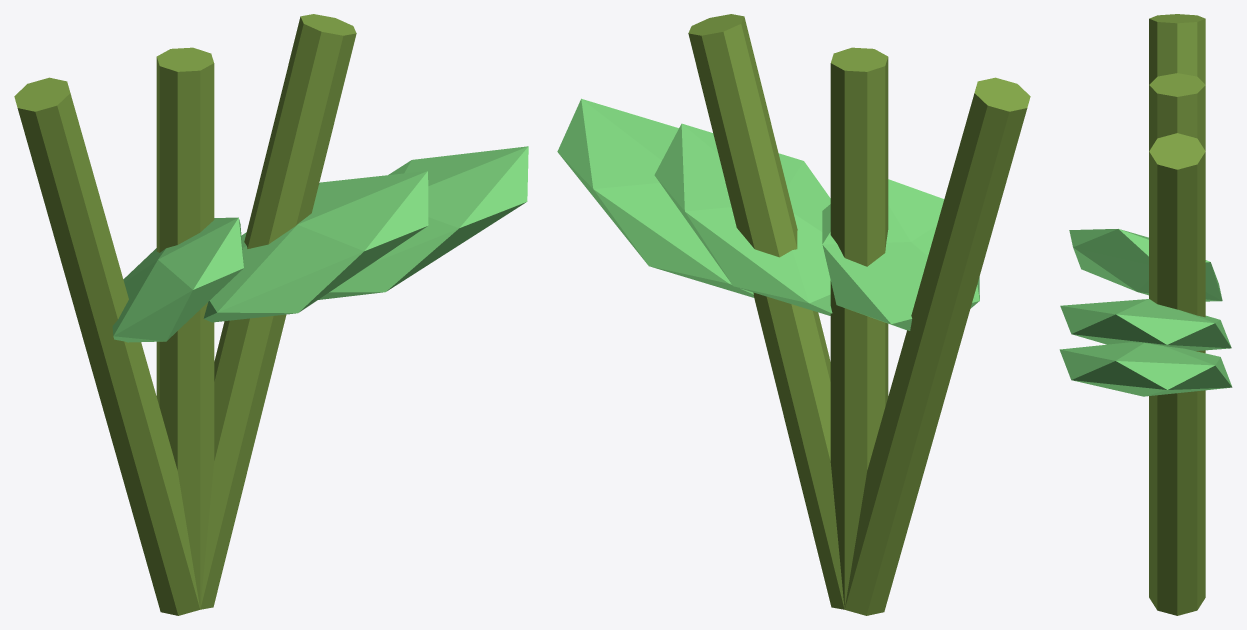
Rendered from harvest_drop_mint.glb.
3 renders of one model, left to right at view 1: azimuth 30°, elevation 25°; view 2: azimuth 150°, elevation 25°; view 3: azimuth 270°, elevation 25°, orthographic. The views are drawn at different scales.
Parts seen in each view (by area): view 1: FTF_Harvest_Drop_Mint_Bunch_Mesh; view 2: FTF_Harvest_Drop_Mint_Bunch_Mesh; view 3: FTF_Harvest_Drop_Mint_Bunch_Mesh.
Boxes of the visible parts, <box> form: FTF_Harvest_Drop_Mint_Bunch_Mesh: <box>14,14,528,615</box>; FTF_Harvest_Drop_Mint_Bunch_Mesh: <box>557,14,1030,615</box>; FTF_Harvest_Drop_Mint_Bunch_Mesh: <box>1059,14,1232,615</box>.
Bounding box in the file's own units: 0.3345 × 0.3696 × 0.1101.
